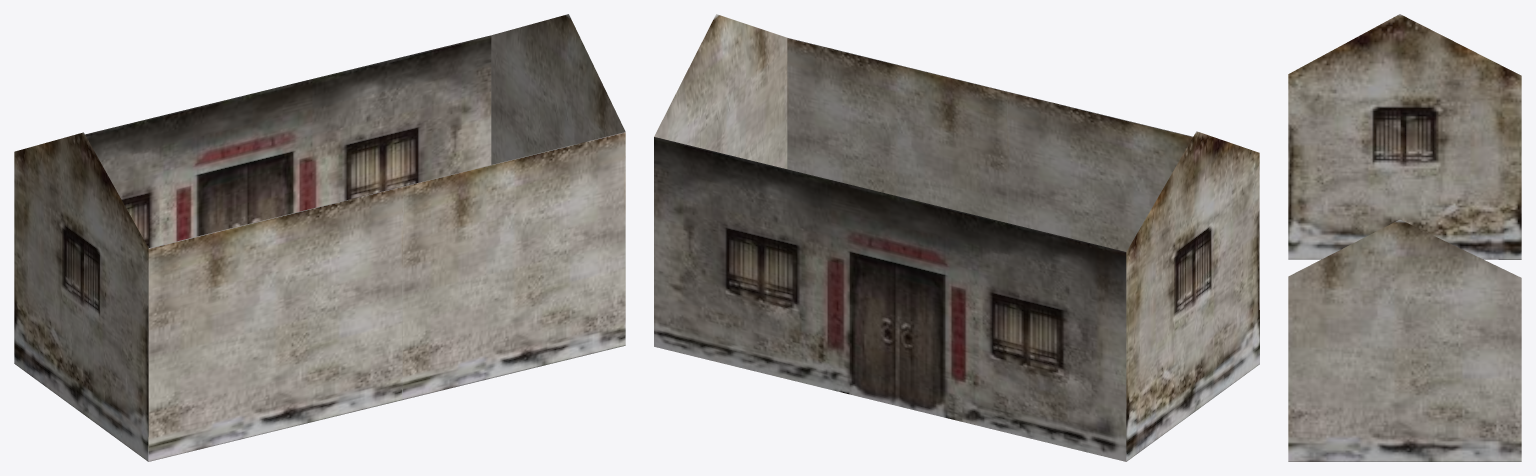
Rendered from fang06.obj.
The picture shows the model from 3 angles, left to right: view 1: azimuth 30°, elevation 25°; view 2: azimuth 150°, elevation 25°; view 3: azimuth 270°, elevation 25°; orthographic projection. The views are drawn at different scales.
Parts seen in each view (by area): view 1: fang06; view 2: fang06; view 3: fang06.
Boxes of the visible parts, bbox=[...] form: fang06: bbox=[14, 14, 625, 461]; fang06: bbox=[654, 14, 1259, 461]; fang06: bbox=[1288, 14, 1521, 461].
Size of the model in its own units: 172 by 95.82 by 82.6.
